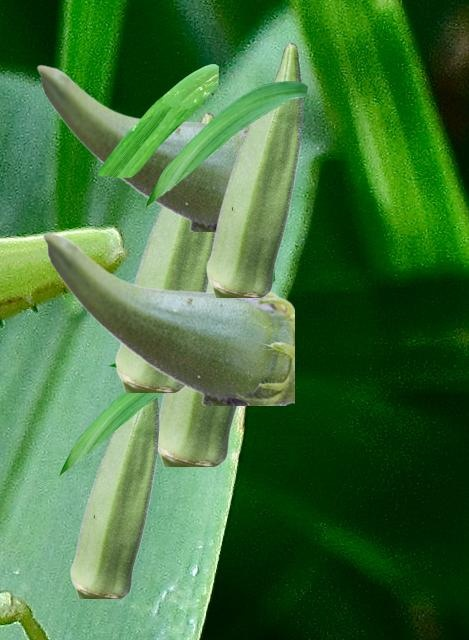okra: (42, 232, 293, 404), (36, 64, 247, 230), (115, 112, 214, 391), (206, 42, 302, 296), (70, 398, 158, 597), (158, 285, 238, 465)
